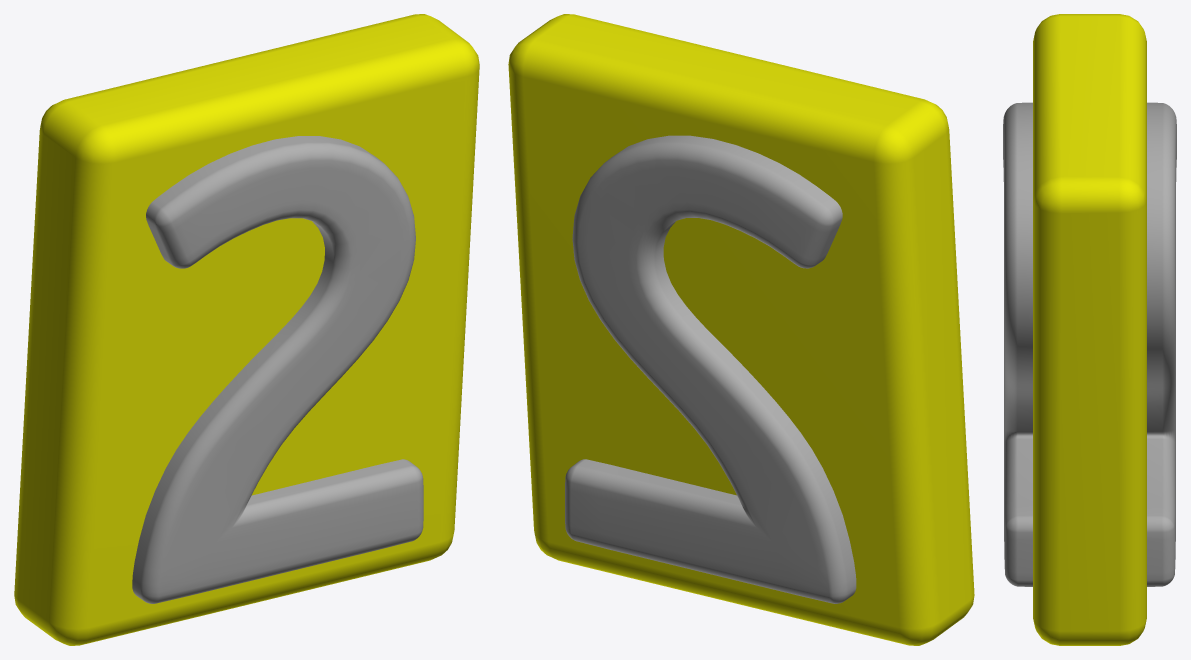
Rendered from number_02.fbx.
The picture shows the model from 3 angles, left to right: view 1: azimuth 30°, elevation 25°; view 2: azimuth 150°, elevation 25°; view 3: azimuth 270°, elevation 25°; orthographic projection. The views are drawn at different scales.
Parts seen in each view (by area): view 1: number_02; view 2: number_02; view 3: number_02.
Part boxes in pixels (x1,y1,x2,y2): number_02: (14,14,479,645); number_02: (508,14,974,645); number_02: (1003,14,1176,645).
Bounding box in the file's own units: 37.68 × 43.15 × 14.19.
